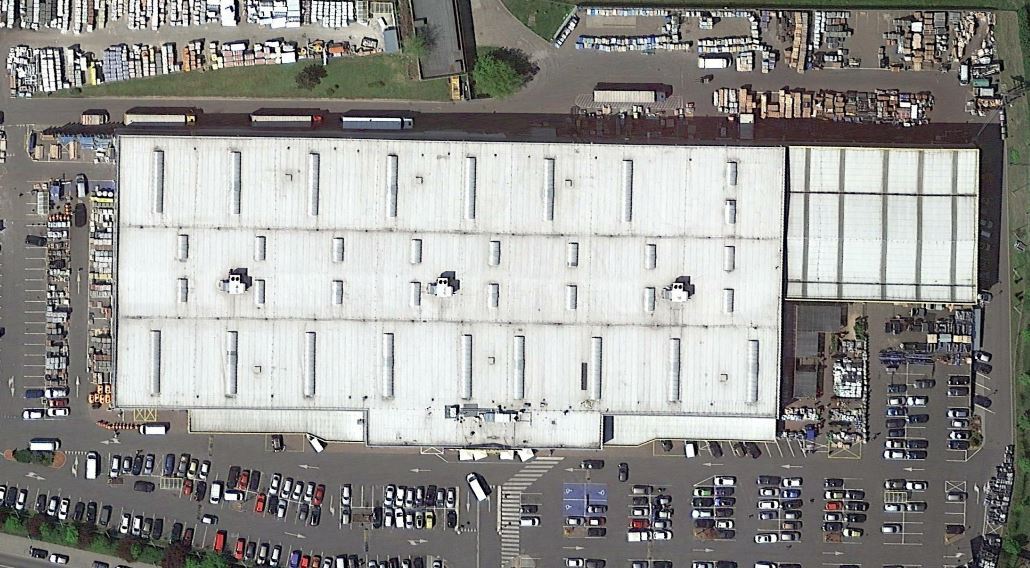shopping_center: (73, 96, 798, 468)
